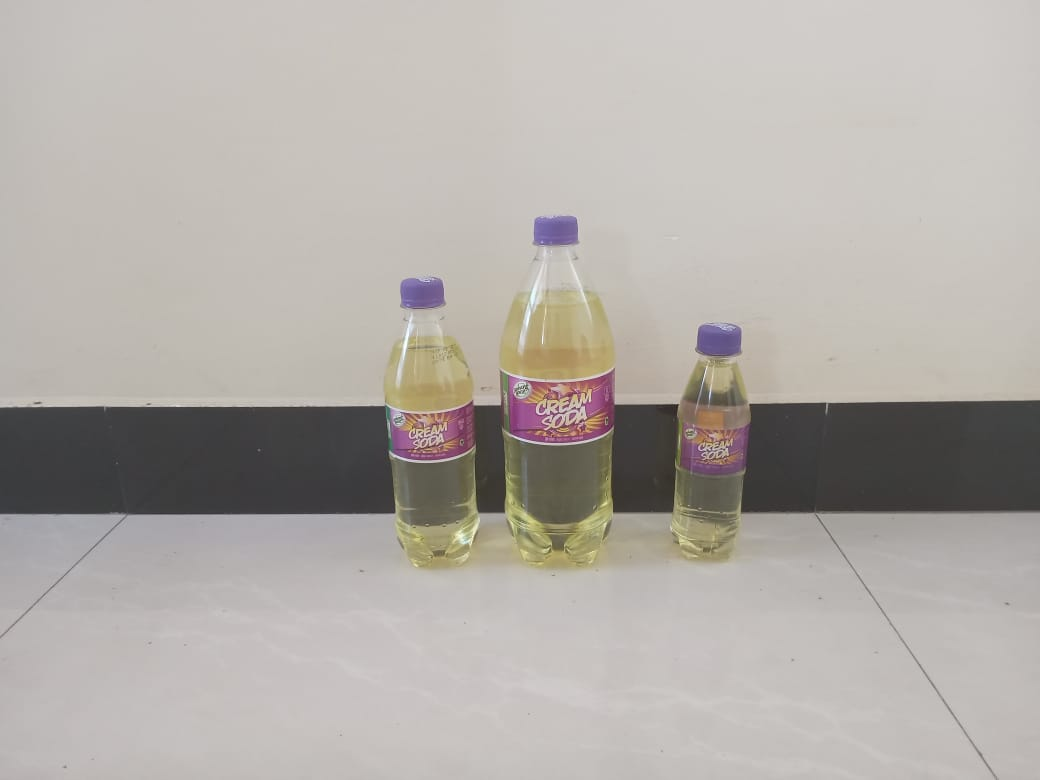M: (499, 215, 618, 570)
S: (379, 272, 483, 566)
Xs: (668, 322, 752, 565)
